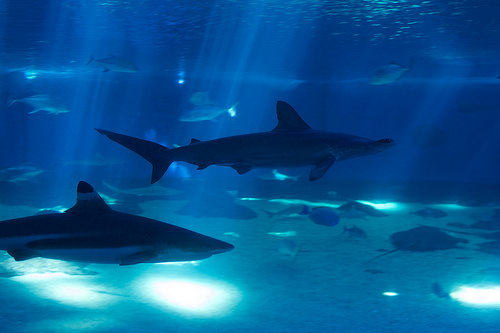shark: (81, 81, 411, 186)
